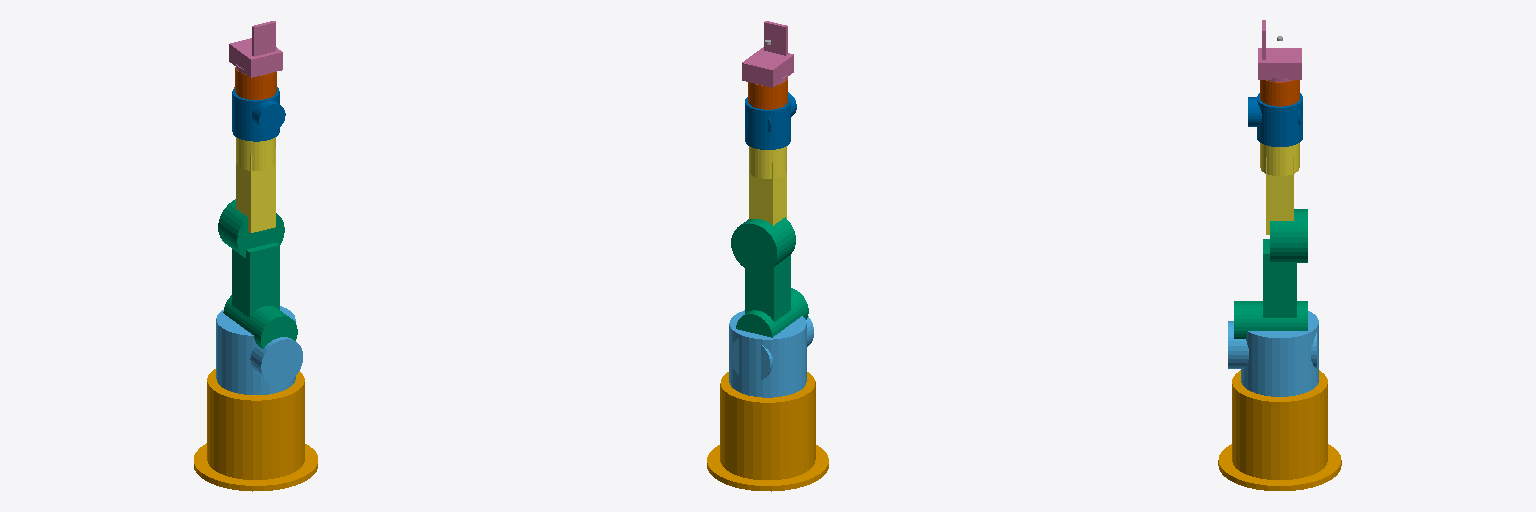
The robot description file, URDF, robot "ita6_arm6":
<?xml version="1.0"?>
<!--
  ITA-6 : 6-DOF spherical-wrist manipulator, bare 6R kinematic core.

  GENERATED by examples/ita6/design_ita6.py : do not hand-edit; re-run the
  script. Link lengths are the winner of a 6x6 design sweep scored on
  caliper's own reachability / manipulability / limit-margin analysis over a
  150 x 240 x 160 mm table-top work zone.

  KINEMATICS (canonical spherical-wrist 6R; every joint origin rpy = 0):
    J1 yaw    axis Z at z = 0.125 m
    J2 pitch  axis Y  (shoulder)      L2 = 0.16 m to the elbow
    J3 pitch  axis Y  (elbow)         L3 = 0.19 m to the wrist centre
    J4 roll   axis Z  |
    J5 pitch  axis Y  +-  these three axes intersect at the WRIST CENTRE
    J6 roll   axis Z  |
    tcp_mount fixed, +0.1 m -> TCP (the frame IK and the task address)
  Reach, base axis -> TCP, arm extended: 0.45 m.

  MASS MODEL : composed analytically from a bill of materials, not guessed:
    aluminium 6061 tube/plate  rho = 2700 kg/m^3   (walls modelled as real walls)
    PLA-CF printed shells      rho = 1240 kg/m^3  (hollow geometry, solid wall)
    steel shafts/screws        rho = 7850 kg/m^3
    NEMA17 0.3 kg | NEMA14 0.14 kg | NEMA11 0.07 kg
    strain wave 0.13 kg | planetary 0.16/0.06/0.03 kg
  Each <inertial> is the parallel-axis sum of those primitives about the link
  COM : valid by construction, which is why A002 passes without tuning.

  DRIVETRAIN -> <limit> (tau_out = tau_motor * ratio * efficiency):
    J1 NEMA17 0.50 N.m x 30:1 belt+planetary x 0.80 -> 12 N.m, 2.433 rad/s
    J2 NEMA17 0.50 N.m x 30:1 strain wave    x 0.80 -> 12 N.m, 2.433 rad/s
    J3 NEMA17 0.50 N.m x 30:1 strain wave    x 0.80 -> 12 N.m, 2.433 rad/s
    J4 NEMA14 0.22 N.m x 20:1 planetary      x 0.75 -> 3.3 N.m, 3.65 rad/s
    J5 NEMA14 0.22 N.m x 20:1 planetary      x 0.75 -> 3.3 N.m, 3.65 rad/s
    J6 NEMA11 0.09 N.m x 14:1 planetary      x 0.75 -> 0.945 N.m, 5.214 rad/s

  Every <collision> is also the <visual>: the shape the doctor lints, the shape
  MuJoCo integrates and the shape the render shows are one object.
-->
<robot name="ita6_arm6">

  <link name="base">
    <inertial>
      <origin xyz="0 0 0.0427254" rpy="0 0 0"/>
      <mass value="1.21699"/>
      <inertia ixx="0.0032105318" ixy="0" ixz="0" iyy="0.0032105318" iyz="0" izz="0.0026281716"/>
    </inertial>
    <visual>
      <origin xyz="0 0 0.004" rpy="0 0 0"/>
      <geometry><cylinder radius="0.082" length="0.008"/></geometry>
    </visual>
    <collision>
      <origin xyz="0 0 0.004" rpy="0 0 0"/>
      <geometry><cylinder radius="0.082" length="0.008"/></geometry>
    </collision>
    <visual>
      <origin xyz="0 0 0.0655" rpy="0 0 0"/>
      <geometry><cylinder radius="0.064" length="0.115"/></geometry>
    </visual>
    <collision>
      <origin xyz="0 0 0.0655" rpy="0 0 0"/>
      <geometry><cylinder radius="0.064" length="0.115"/></geometry>
    </collision>
  </link>
  <link name="shoulder">
    <inertial>
      <origin xyz="0 -0.0179585 0.0497035" rpy="0 0 0"/>
      <mass value="0.62366"/>
      <inertia ixx="0.00092130391" ixy="0" ixz="0" iyy="0.00042553389" iyz="2.57203e-05" izz="0.00099364391"/>
    </inertial>
    <visual>
      <origin xyz="0 0 0.043" rpy="0 0 0"/>
      <geometry><cylinder radius="0.052" length="0.086"/></geometry>
    </visual>
    <collision>
      <origin xyz="0 0 0.043" rpy="0 0 0"/>
      <geometry><cylinder radius="0.052" length="0.086"/></geometry>
    </collision>
    <visual>
      <origin xyz="0 -0.01 0.052" rpy="1.5708 0 0"/>
      <geometry><cylinder radius="0.032" length="0.118"/></geometry>
    </visual>
    <collision>
      <origin xyz="0 -0.01 0.052" rpy="1.5708 0 0"/>
      <geometry><cylinder radius="0.032" length="0.118"/></geometry>
    </collision>
  </link>
  <link name="upper_arm">
    <inertial>
      <origin xyz="0 -0.0193916 0.073646" rpy="0 0 0"/>
      <mass value="0.569317"/>
      <inertia ixx="0.0022936241" ixy="0" ixz="0" iyy="0.001919812" iyz="-0.00069665222" izz="0.00056807286"/>
    </inertial>
    <visual>
      <origin xyz="0 0 0.08" rpy="0 0 0"/>
      <geometry><box size="0.046 0.046 0.13"/></geometry>
    </visual>
    <collision>
      <origin xyz="0 0 0.08" rpy="0 0 0"/>
      <geometry><box size="0.046 0.046 0.13"/></geometry>
    </collision>
    <visual>
      <origin xyz="0 -0.012 0.034" rpy="1.5708 0 0"/>
      <geometry><cylinder radius="0.028" length="0.098"/></geometry>
    </visual>
    <collision>
      <origin xyz="0 -0.012 0.034" rpy="1.5708 0 0"/>
      <geometry><cylinder radius="0.028" length="0.098"/></geometry>
    </collision>
    <visual>
      <origin xyz="0 0.012 0.16" rpy="1.5708 0 0"/>
      <geometry><cylinder radius="0.036" length="0.05"/></geometry>
    </visual>
    <collision>
      <origin xyz="0 0.012 0.16" rpy="1.5708 0 0"/>
      <geometry><cylinder radius="0.036" length="0.05"/></geometry>
    </collision>
  </link>
  <link name="forearm">
    <inertial>
      <origin xyz="0 0 0.109221" rpy="0 0 0"/>
      <mass value="0.270426"/>
      <inertia ixx="0.00038567942" ixy="0" ixz="0" iyy="0.00038567942" iyz="0" izz="5.5337355e-05"/>
    </inertial>
    <visual>
      <origin xyz="0 0 0.0675" rpy="0 0 0"/>
      <geometry><box size="0.038 0.038 0.115"/></geometry>
    </visual>
    <collision>
      <origin xyz="0 0 0.0675" rpy="0 0 0"/>
      <geometry><box size="0.038 0.038 0.115"/></geometry>
    </collision>
    <visual>
      <origin xyz="0 0 0.1275" rpy="0 0 0"/>
      <geometry><cylinder radius="0.026" length="0.055"/></geometry>
    </visual>
    <collision>
      <origin xyz="0 0 0.1275" rpy="0 0 0"/>
      <geometry><cylinder radius="0.026" length="0.055"/></geometry>
    </collision>
  </link>
  <link name="wrist1">
    <inertial>
      <origin xyz="0 -0.0107696 -0.00984596" rpy="0 0 0"/>
      <mass value="0.259992"/>
      <inertia ixx="0.00014848351" ixy="0" ixz="0" iyy="6.6973303e-05" iyz="5.1686909e-06" izz="0.000152724"/>
    </inertial>
    <visual>
      <origin xyz="0 0 -0.016" rpy="0 0 0"/>
      <geometry><cylinder radius="0.031" length="0.058"/></geometry>
    </visual>
    <collision>
      <origin xyz="0 0 -0.016" rpy="0 0 0"/>
      <geometry><cylinder radius="0.031" length="0.058"/></geometry>
    </collision>
    <visual>
      <origin xyz="0 -0.008 -0.008" rpy="1.5708 0 0"/>
      <geometry><cylinder radius="0.02" length="0.07"/></geometry>
    </visual>
    <collision>
      <origin xyz="0 -0.008 -0.008" rpy="1.5708 0 0"/>
      <geometry><cylinder radius="0.02" length="0.07"/></geometry>
    </collision>
  </link>
  <link name="wrist2">
    <inertial>
      <origin xyz="0 0 0.0229267" rpy="0 0 0"/>
      <mass value="0.14028"/>
      <inertia ixx="3.8183831e-05" ixy="0" ixz="0" iyy="3.8183831e-05" iyz="0" izz="3.2251516e-05"/>
    </inertial>
    <visual>
      <origin xyz="0 0 0.024" rpy="0 0 0"/>
      <geometry><cylinder radius="0.027" length="0.048"/></geometry>
    </visual>
    <collision>
      <origin xyz="0 0 0.024" rpy="0 0 0"/>
      <geometry><cylinder radius="0.027" length="0.048"/></geometry>
    </collision>
  </link>
  <link name="tool">
    <inertial>
      <origin xyz="0 -0.0036362 0.0670068" rpy="0 0 0"/>
      <mass value="0.133603"/>
      <inertia ixx="7.0171142e-05" ixy="0" ixz="0" iyy="5.8692446e-05" iyz="1.5056649e-05" izz="4.49105e-05"/>
    </inertial>
    <visual>
      <origin xyz="0 0 0.051" rpy="0 0 0"/>
      <geometry><cylinder radius="0.026" length="0.006"/></geometry>
    </visual>
    <collision>
      <origin xyz="0 0 0.051" rpy="0 0 0"/>
      <geometry><cylinder radius="0.026" length="0.006"/></geometry>
    </collision>
    <visual>
      <origin xyz="0 0 0.063" rpy="0 0 0"/>
      <geometry><box size="0.048 0.058 0.026"/></geometry>
    </visual>
    <collision>
      <origin xyz="0 0 0.063" rpy="0 0 0"/>
      <geometry><box size="0.048 0.058 0.026"/></geometry>
    </collision>
    <visual>
      <origin xyz="0 -0.021 0.098" rpy="0 0 0"/>
      <geometry><box size="0.034 0.006 0.042"/></geometry>
    </visual>
    <collision>
      <origin xyz="0 -0.021 0.098" rpy="0 0 0"/>
      <geometry><box size="0.034 0.006 0.042"/></geometry>
    </collision>
  </link>
  <link name="tcp">
    <inertial>
      <origin xyz="0 0 0" rpy="0 0 0"/>
      <mass value="0.000542867"/>
      <inertia ixx="2.8952918e-09" ixy="0" ixz="0" iyy="2.8952918e-09" iyz="0" izz="4.3429377e-09"/>
    </inertial>
    <visual>
      <origin xyz="0 0 0" rpy="0 0 0"/>
      <geometry><cylinder radius="0.004" length="0.004"/></geometry>
    </visual>
    <collision>
      <origin xyz="0 0 0" rpy="0 0 0"/>
      <geometry><cylinder radius="0.004" length="0.004"/></geometry>
    </collision>
  </link>

  <joint name="j1" type="revolute">
    <parent link="base"/><child link="shoulder"/>
    <origin xyz="0 0 0.125" rpy="0 0 0"/>
    <axis xyz="0 0 1"/>
    <limit lower="-3.054" upper="3.054" effort="12" velocity="2.433"/>
  </joint>
  <joint name="j2" type="revolute">
    <parent link="shoulder"/><child link="upper_arm"/>
    <origin xyz="0 0 0.052" rpy="0 0 0"/>
    <axis xyz="0 1 0"/>
    <limit lower="-2.094" upper="2.094" effort="12" velocity="2.433"/>
  </joint>
  <joint name="j3" type="revolute">
    <parent link="upper_arm"/><child link="forearm"/>
    <origin xyz="0 0 0.16" rpy="0 0 0"/>
    <axis xyz="0 1 0"/>
    <limit lower="-2.618" upper="2.618" effort="12" velocity="2.433"/>
  </joint>
  <joint name="j4" type="revolute">
    <parent link="forearm"/><child link="wrist1"/>
    <origin xyz="0 0 0.19" rpy="0 0 0"/>
    <axis xyz="0 0 1"/>
    <limit lower="-3.054" upper="3.054" effort="3.3" velocity="3.65"/>
  </joint>
  <joint name="j5" type="revolute">
    <parent link="wrist1"/><child link="wrist2"/>
    <origin xyz="0 0 0" rpy="0 0 0"/>
    <axis xyz="0 1 0"/>
    <limit lower="-2.094" upper="2.094" effort="3.3" velocity="3.65"/>
  </joint>
  <joint name="j6" type="revolute">
    <parent link="wrist2"/><child link="tool"/>
    <origin xyz="0 0 0" rpy="0 0 0"/>
    <axis xyz="0 0 1"/>
    <limit lower="-3.14" upper="3.14" effort="0.945" velocity="5.214"/>
  </joint>
  <joint name="tcp_mount" type="fixed">
    <parent link="tool"/><child link="tcp"/>
    <origin xyz="0 0 0.1" rpy="0 0 0"/>
  </joint>
</robot>

--- What the picture shows (computed from the rendered views, not written in the file) ---
Views: 3 orthographic renders of the robot side by side, from view 1: azimuth 30°, elevation 25°; view 2: azimuth 150°, elevation 25°; view 3: azimuth 270°, elevation 25°.
Robot: ita6_arm6 — 8 links, 7 joints (6 revolute, 1 fixed); root link base; default pose: all joints at 0.
Visible links, largest first — view 1: base, upper_arm, shoulder, forearm, wrist1, tool, wrist2; view 2: base, upper_arm, shoulder, forearm, tool, wrist1, wrist2; view 3: base, upper_arm, shoulder, forearm, wrist1, tool, wrist2.
Link boxes in pixels (left/top/right/bottom): base: left=194, top=369, right=317, bottom=491; upper_arm: left=218, top=199, right=297, bottom=348; shoulder: left=216, top=306, right=302, bottom=394; forearm: left=236, top=137, right=275, bottom=232; wrist1: left=232, top=87, right=285, bottom=141; tool: left=229, top=21, right=282, bottom=77; wrist2: left=235, top=67, right=276, bottom=99; base: left=707, top=372, right=828, bottom=491; upper_arm: left=731, top=217, right=808, bottom=337; shoulder: left=729, top=310, right=813, bottom=397; forearm: left=749, top=146, right=786, bottom=225; tool: left=742, top=21, right=793, bottom=87; wrist1: left=745, top=92, right=796, bottom=149; wrist2: left=748, top=77, right=787, bottom=109; base: left=1218, top=370, right=1341, bottom=490; upper_arm: left=1234, top=209, right=1307, bottom=338; shoulder: left=1228, top=311, right=1318, bottom=396; forearm: left=1260, top=143, right=1299, bottom=234; wrist1: left=1248, top=93, right=1302, bottom=146; tool: left=1258, top=20, right=1301, bottom=81; wrist2: left=1260, top=80, right=1299, bottom=106.
Bounding box of the posed robot: 0.164 × 0.164 × 0.646 m (x, y, z).
Geometry: primitives only (box / cylinder / sphere), no mesh files.
